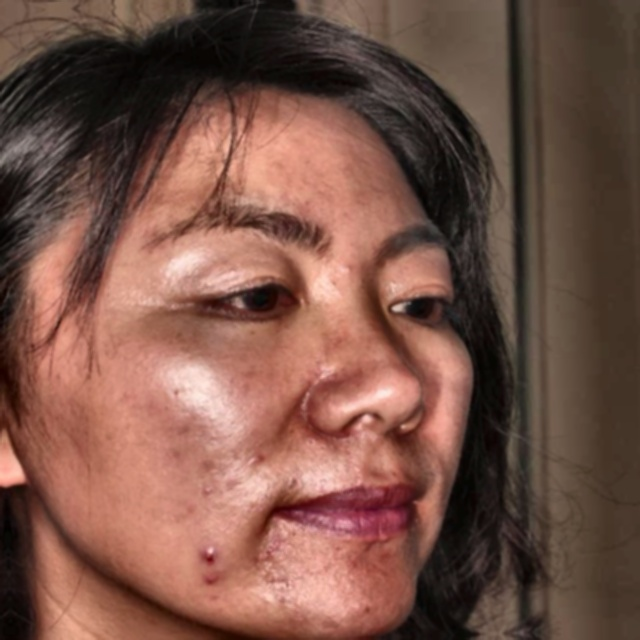comedone: (196, 541, 230, 596)
